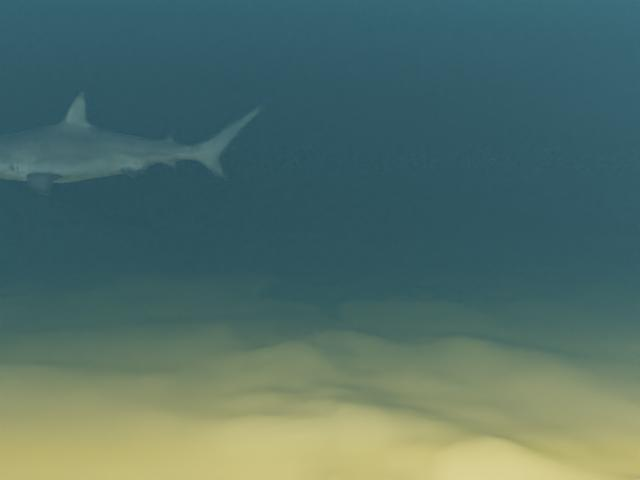Carribean Shark.001: (0, 91, 271, 195)
